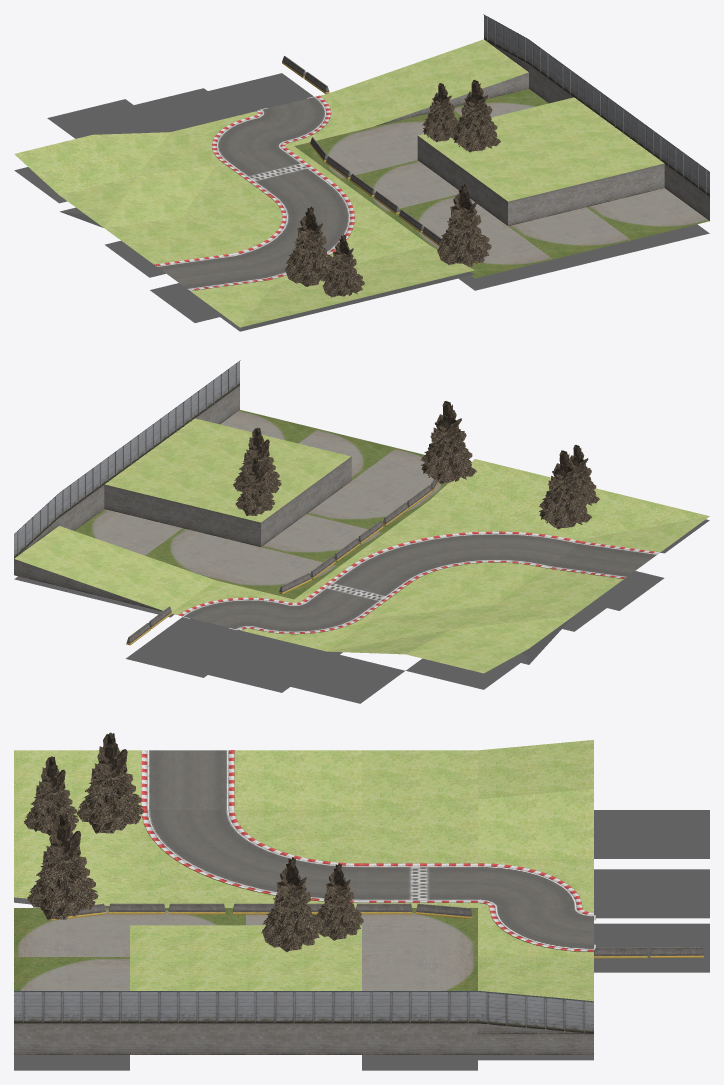
The model's file is map4.obj.
3 renders of one model, top to bottom at view 1: azimuth 30°, elevation 25°; view 2: azimuth 150°, elevation 25°; view 3: azimuth 270°, elevation 25°, orthographic. The views are drawn at different scales.
Parts seen in each view (by area): view 1: map5; view 2: map5; view 3: map5.
Part boxes in pixels (x1=…): map5: x1=14, y1=14, x2=709, y2=331; map5: x1=14, y1=360, x2=709, y2=703; map5: x1=14, y1=732, x2=709, y2=1070.
Size of the model in its own units: 388 by 89.36 by 388.
12 materials, 11 textured.
